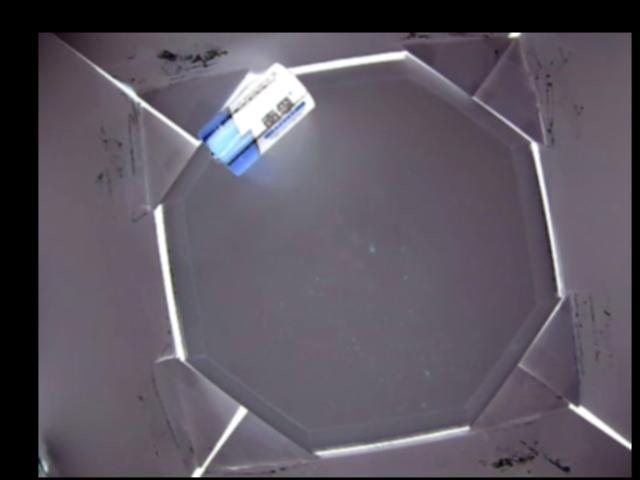Battery: (198, 63, 318, 176)
